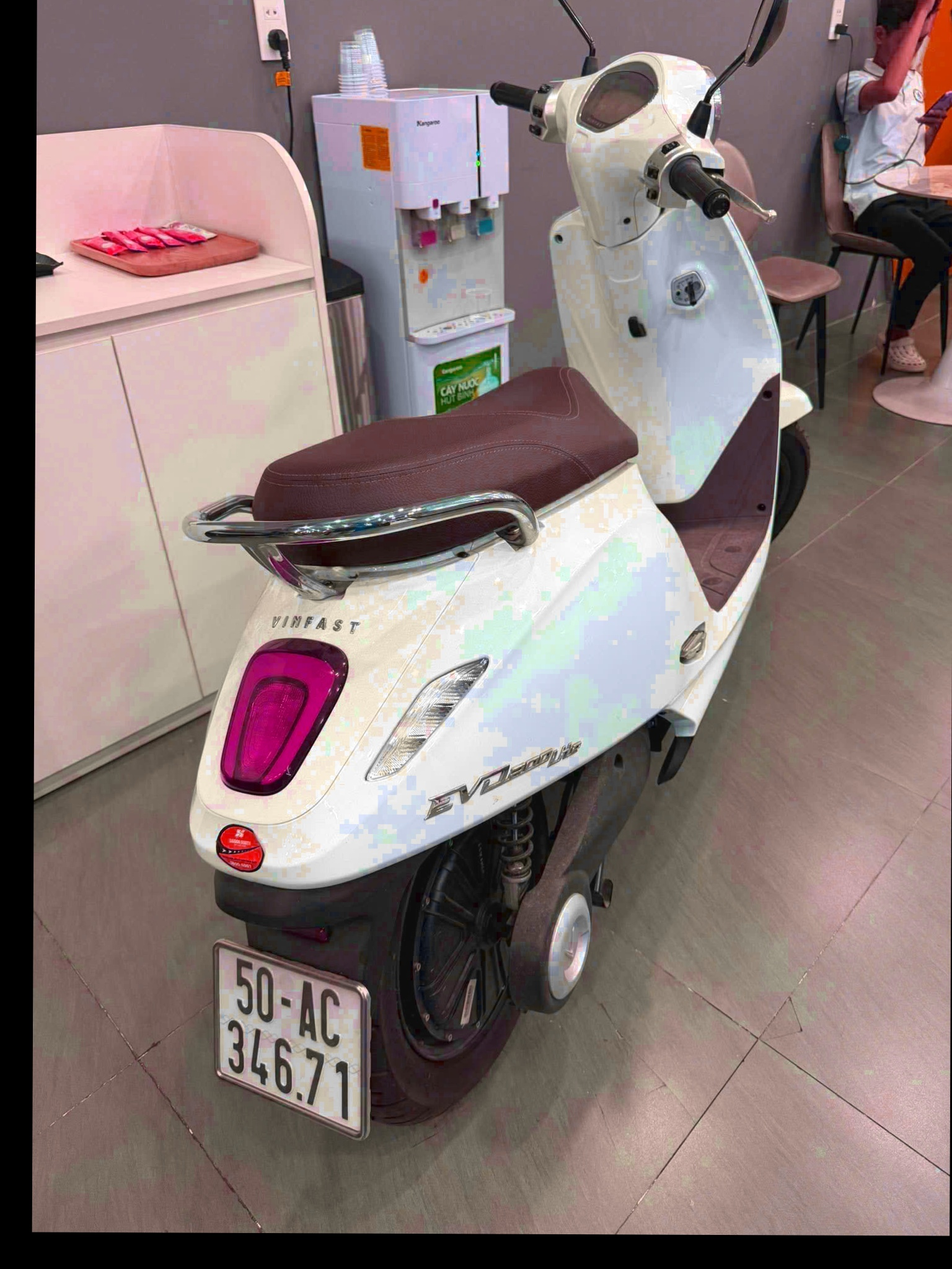Bien-so: (195, 977, 373, 1183)
